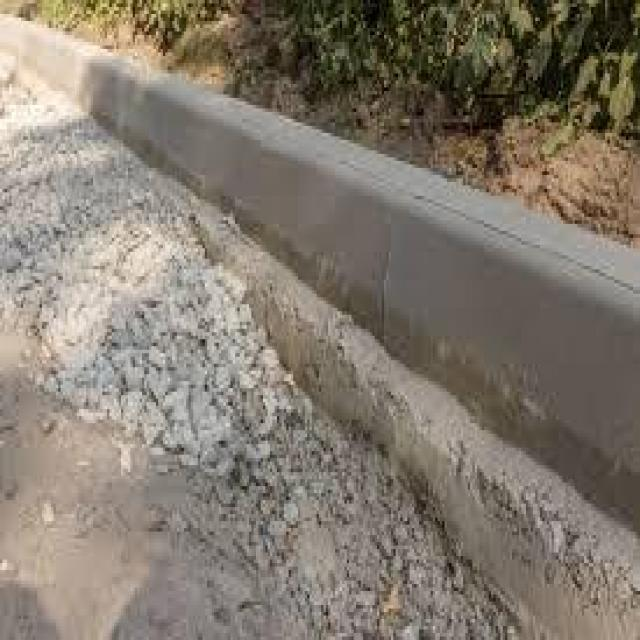curb: (1, 13, 640, 640)
